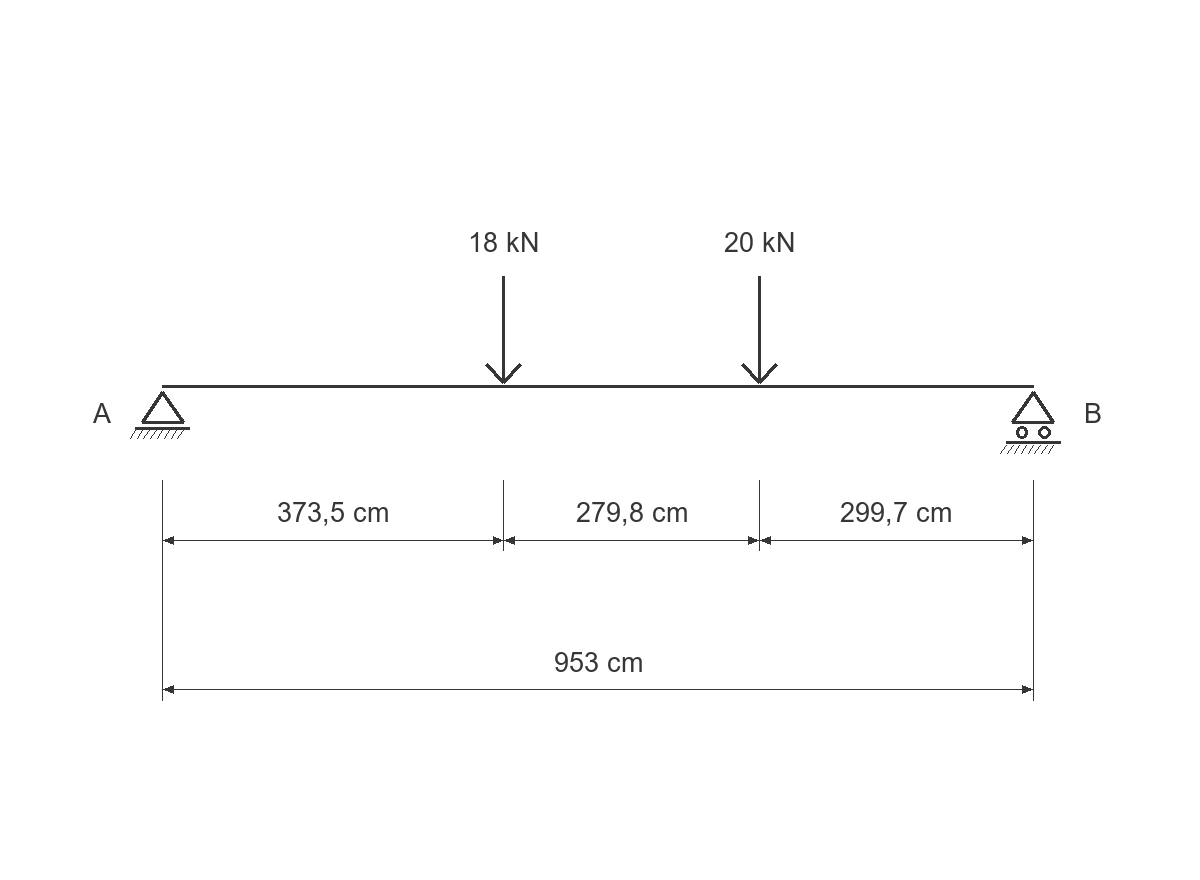pin_support: (130, 391, 190, 439)
point_load: (485, 276, 522, 384), (741, 276, 778, 384)
roller_support: (1000, 391, 1061, 454)
